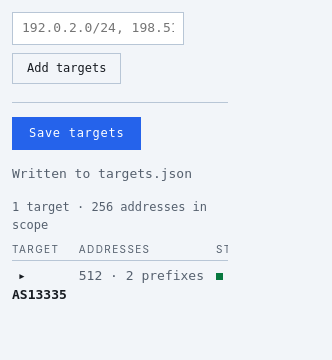
Test: input helpers › expands and collapses ASN prefixes without remove controls
Expected: the text "1.0.0.0/24" is not shown
Click the button named "Expand AS13335 prefixes": [22, 276] box [12,266,32,285]
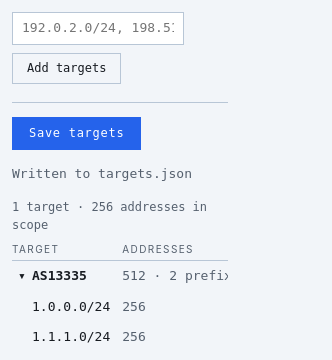
Expected: the button named "Expand AS13335 prefixes" is expanded
Click the button named "Expand AS13335 prefixes": [22, 276] box [12,266,32,285]
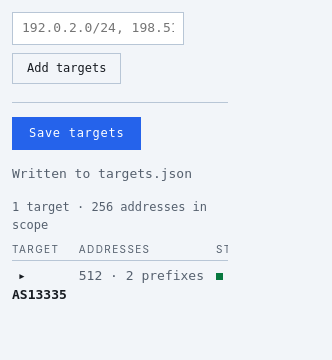
Expected: the button named "Expand AS13335 prefixes" is collapsed, [12,266,32,285]
Expected: the text "1.0.0.0/24" is gone
